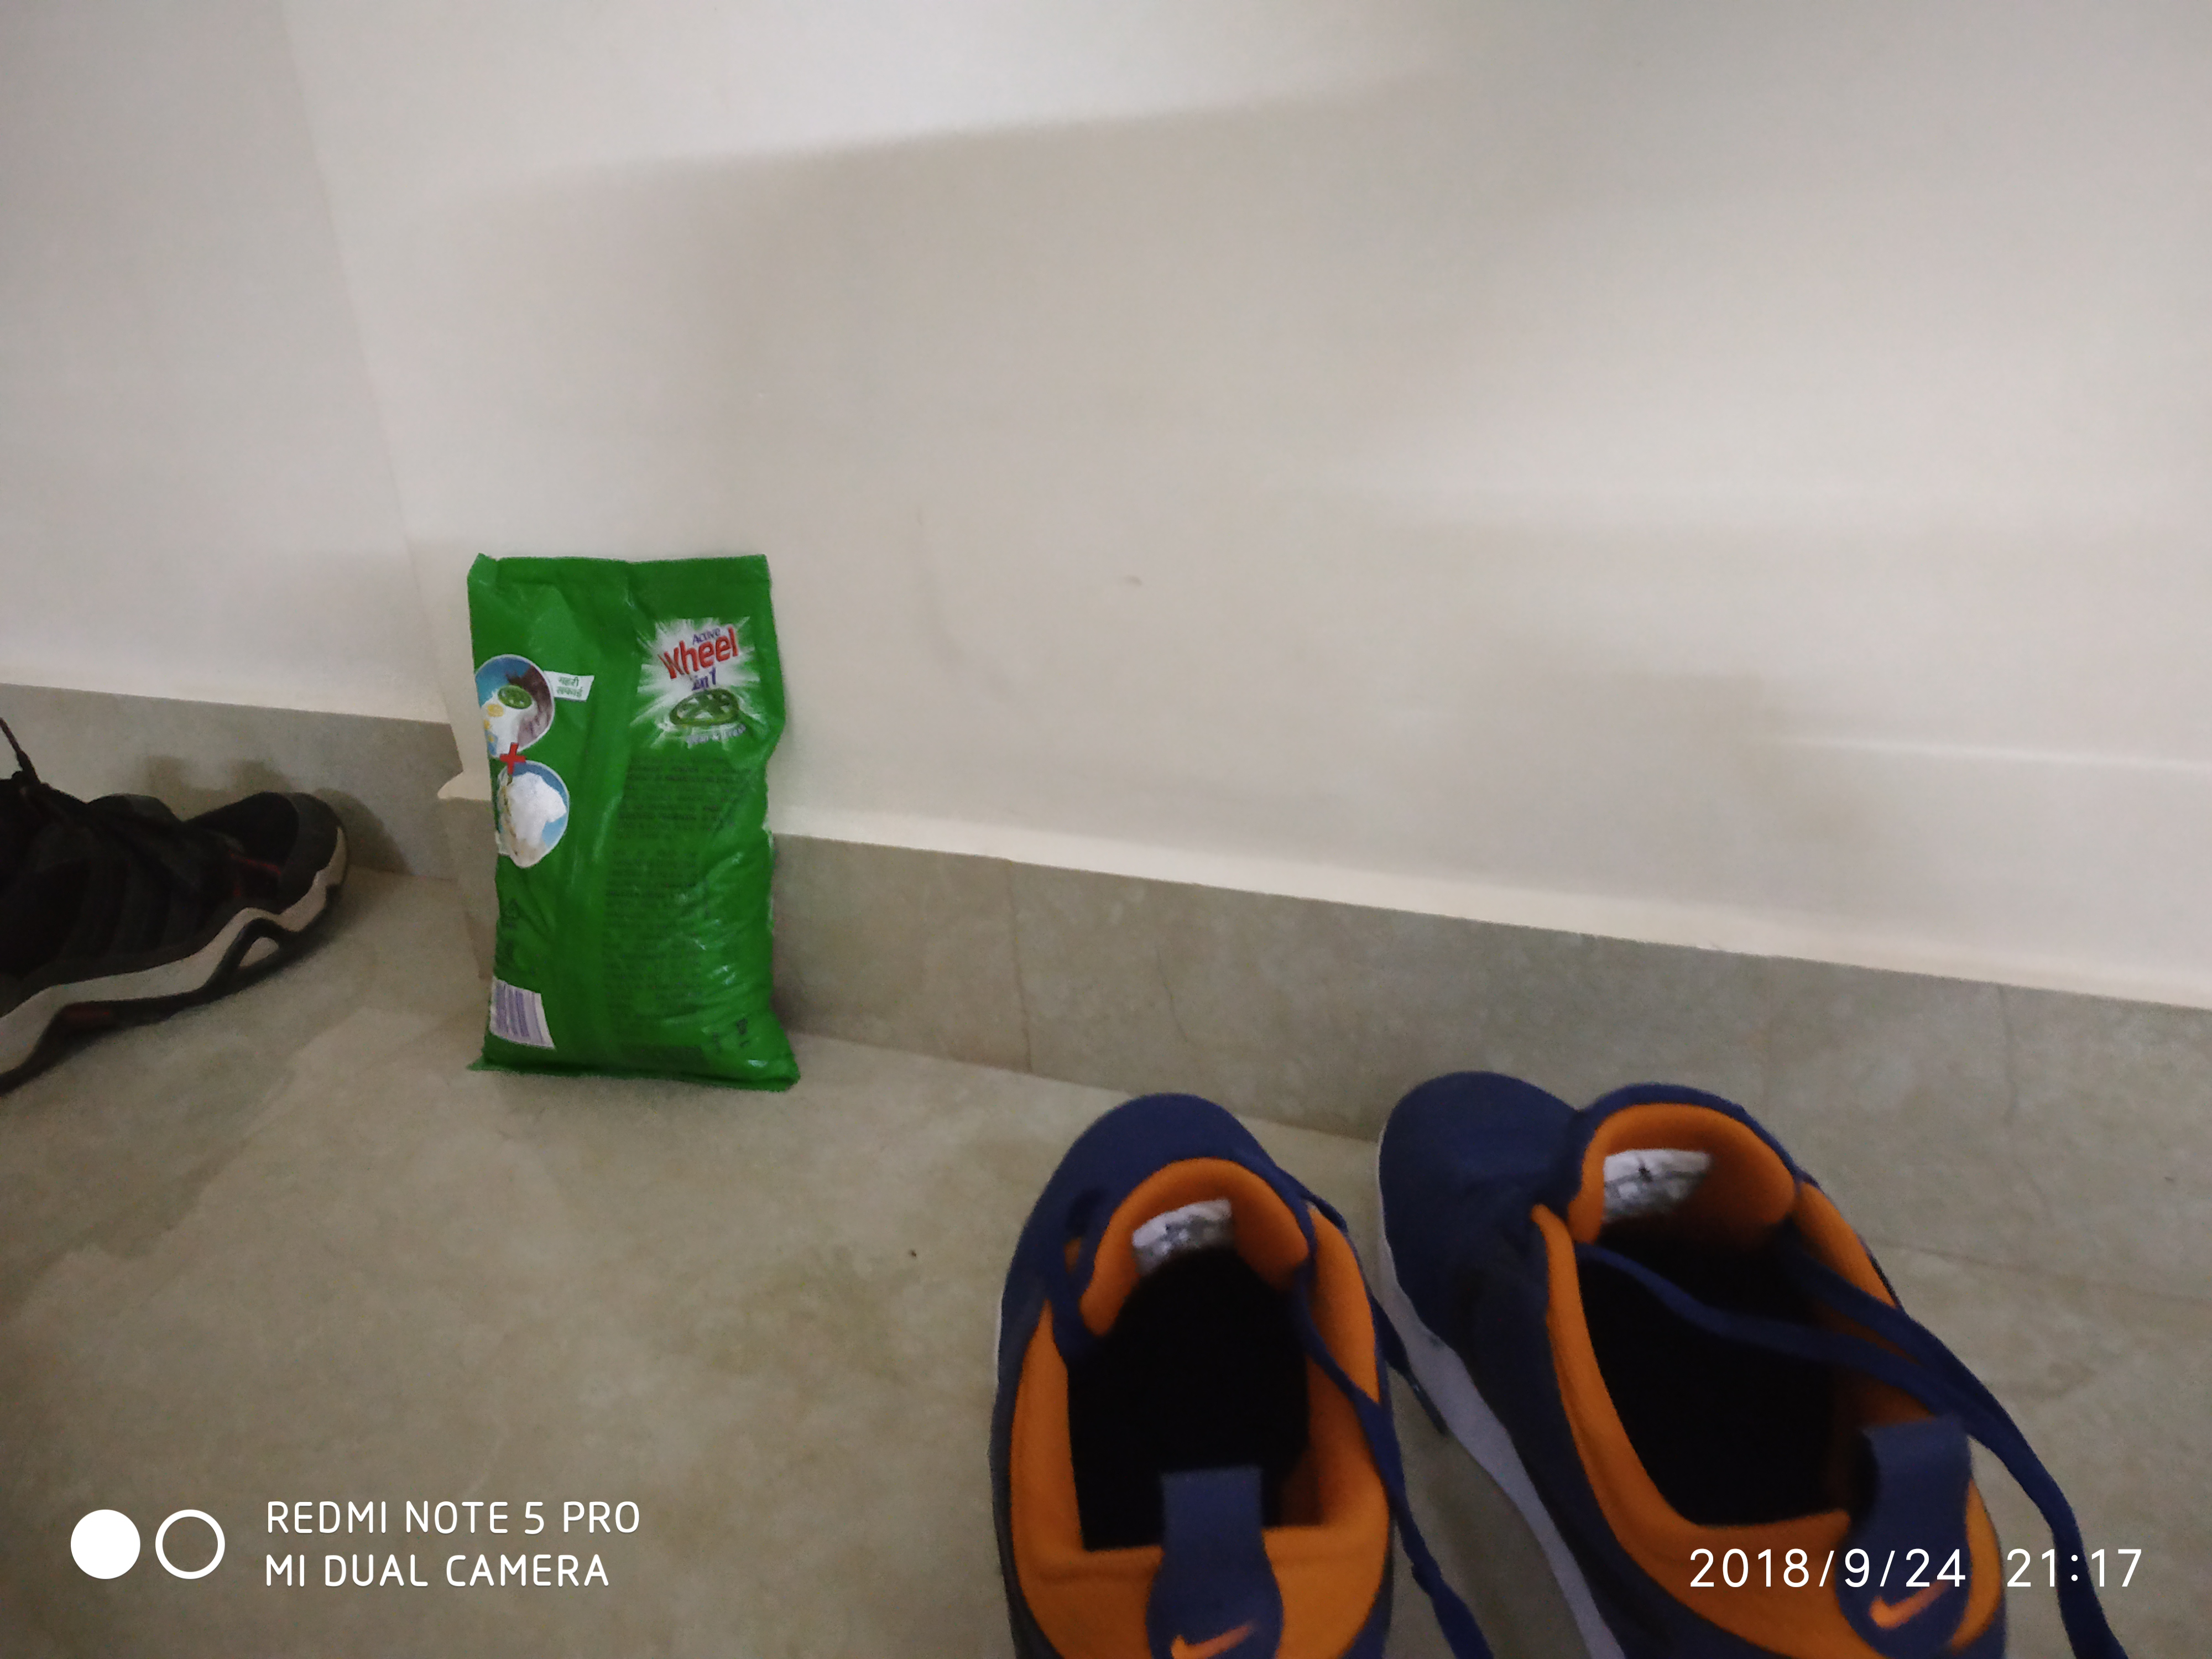Copy of detergent: (462, 552, 800, 1088)
